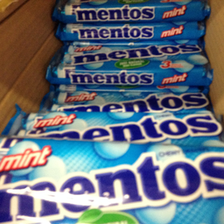candy: (3, 138, 224, 222), (16, 91, 219, 142), (47, 40, 213, 91), (53, 4, 206, 44)
